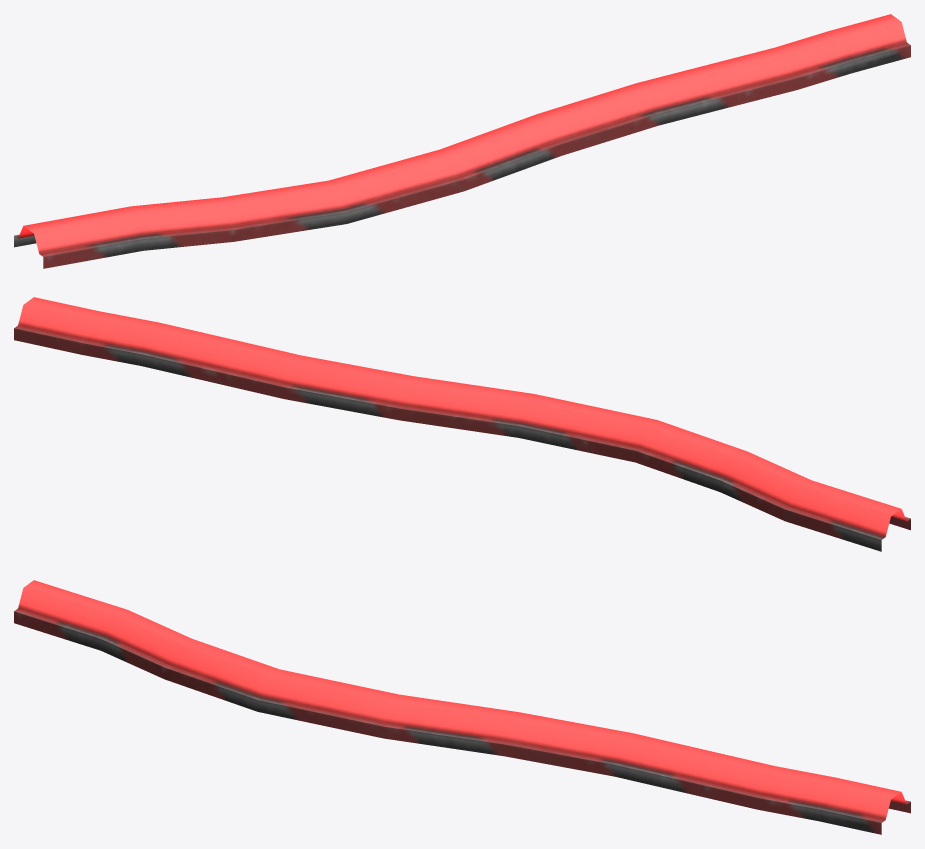
The model's file is Way_M1.fbx.
3 views of the same model, one above another, from view 1: azimuth 30°, elevation 25°; view 2: azimuth 150°, elevation 25°; view 3: azimuth 330°, elevation 25° (orthographic).
Visible parts, largest first — view 1: Way_M1; view 2: Way_M1; view 3: Way_M1.
Part boxes in pixels (x1=…): Way_M1: x1=14, y1=14, x2=910, y2=268; Way_M1: x1=14, y1=297, x2=910, y2=551; Way_M1: x1=14, y1=580, x2=910, y2=834.
Bounding box in the file's own units: 4 × 0.1253 × 0.4733.
